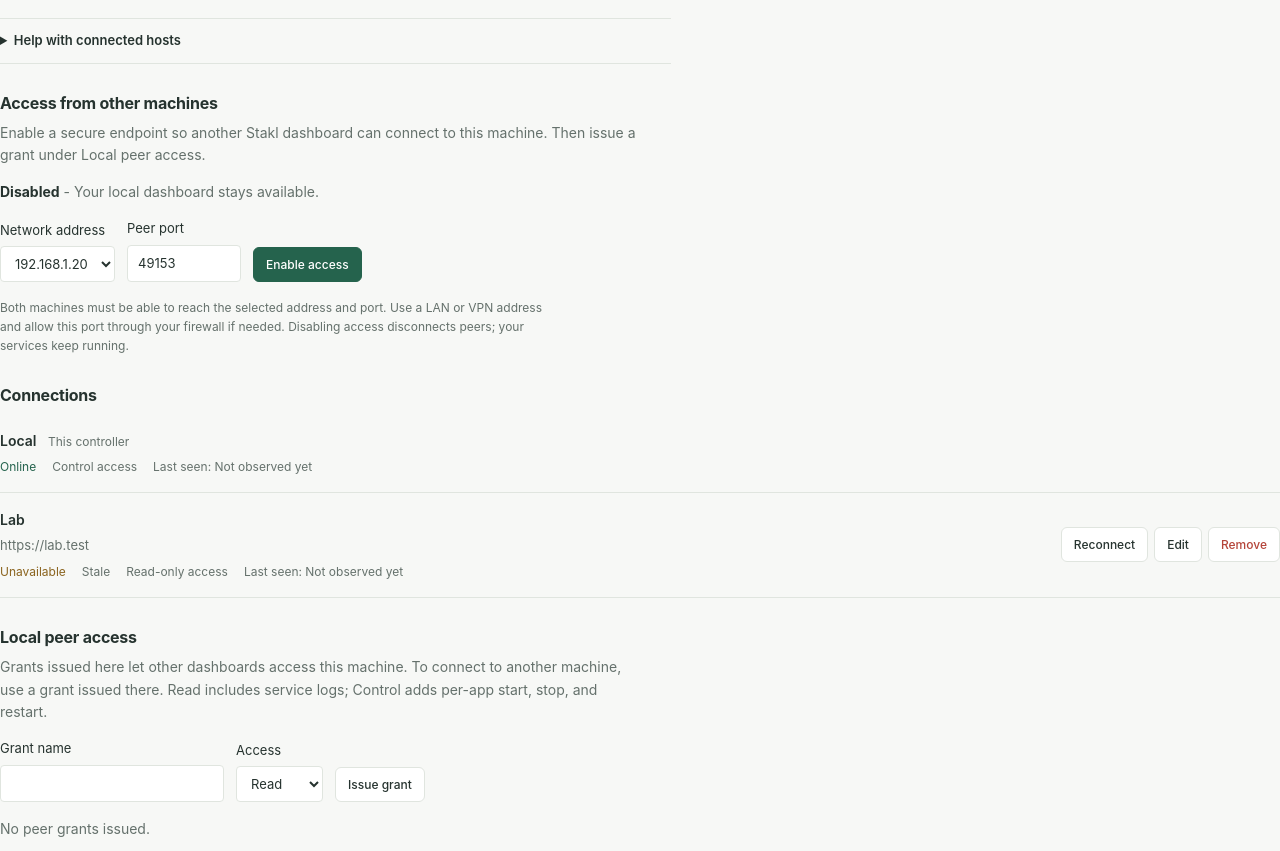
it: grant shown once
This screenshot has width=1280, height=851.
Expected: the button with aria-label "Edit Lab" is shown, [1154,527,1202,562]
In the field labelled "Grant name": (112, 784) [0,765,224,802], type "Workstation"
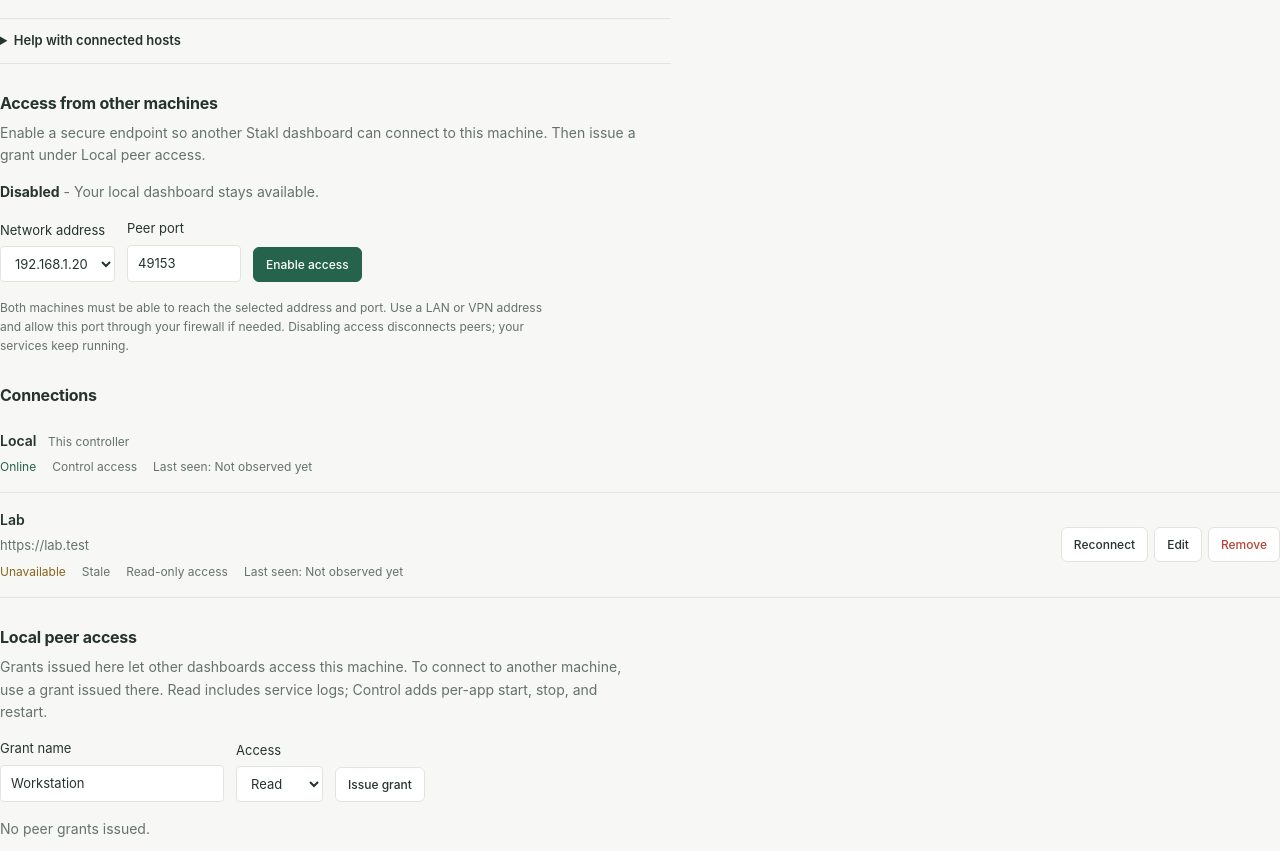
Click the button "Issue grant": click(380, 785) [335,767,425,802]
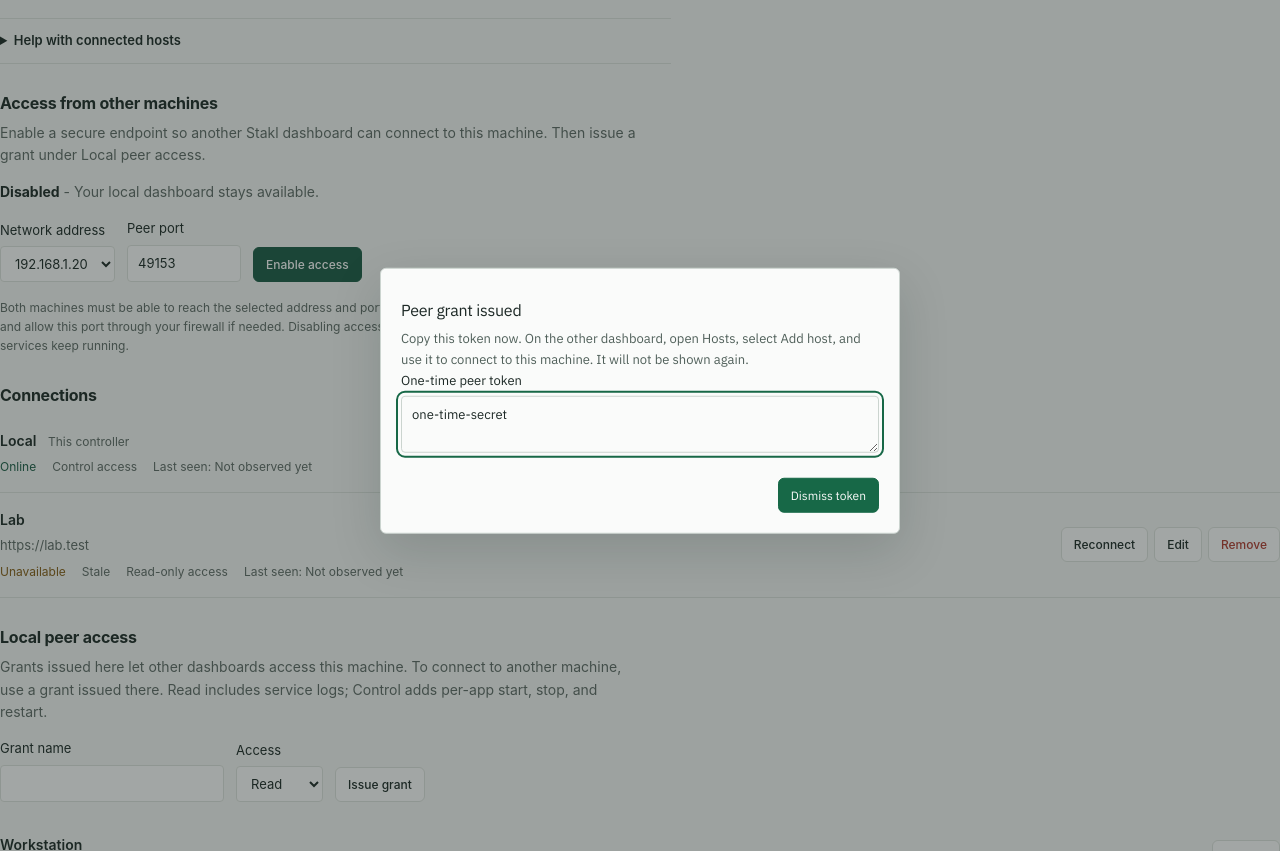
Expected: the text box labelled "One-time peer token" holds "one-time-secret", [401,396,879,453]
Click the button "Dismiss token": click(828, 496) [778,478,879,513]
(page scrolled)
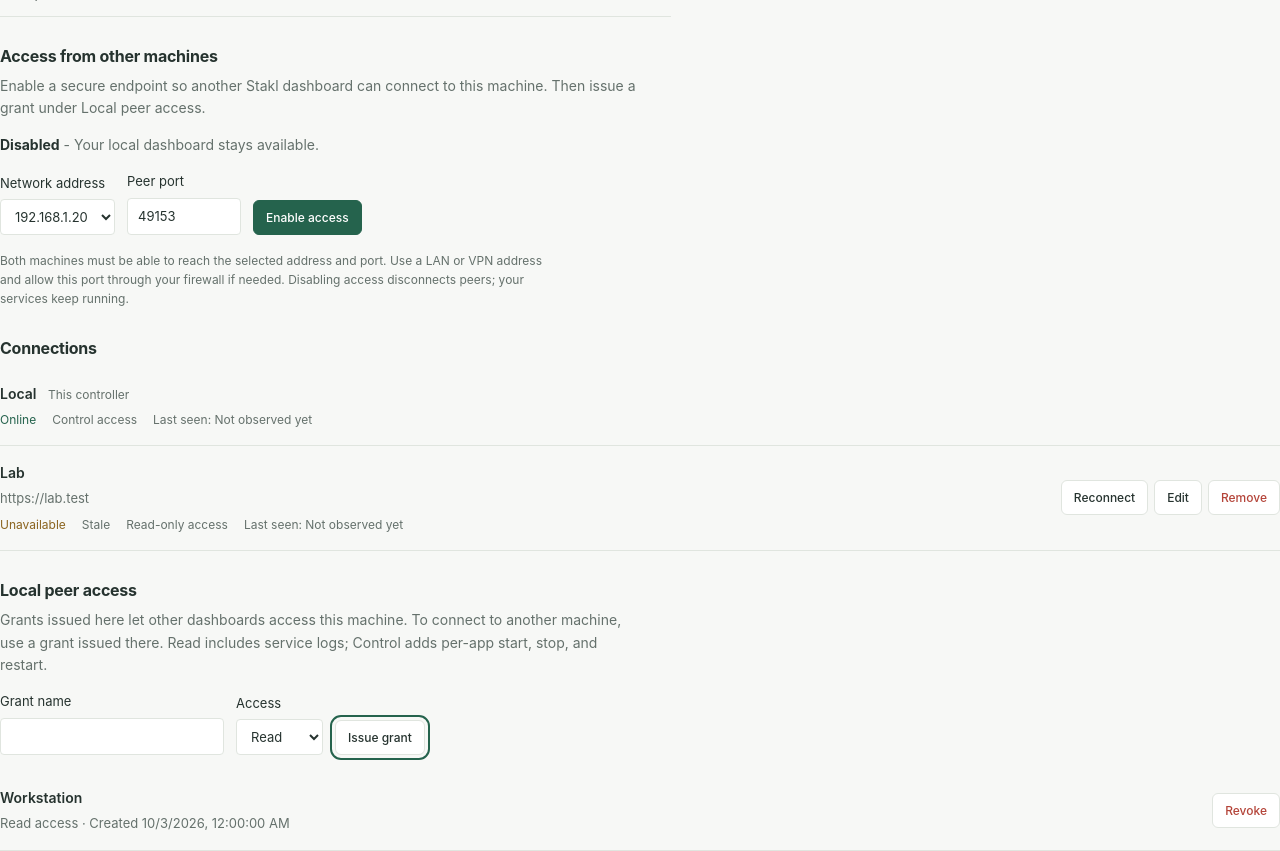
Expected: the text "one-time-secret" is not shown
Expected: the label labelled "One-time peer token" is gone
Click the button with aria-label "Revoke Workstation": click(1246, 811) [1212,793,1279,828]
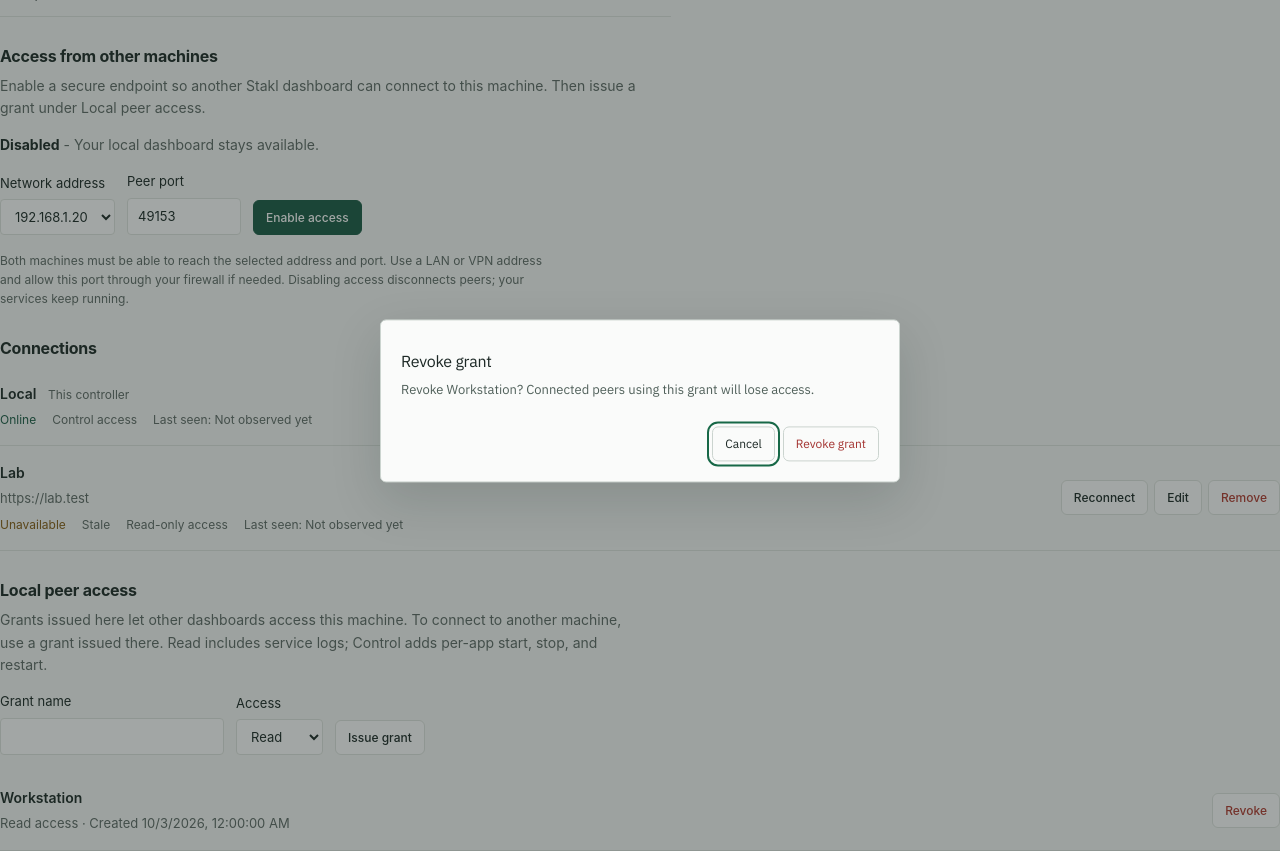
Click the button "Revoke grant": click(831, 444) [783,427,879,462]
(page scrolled)
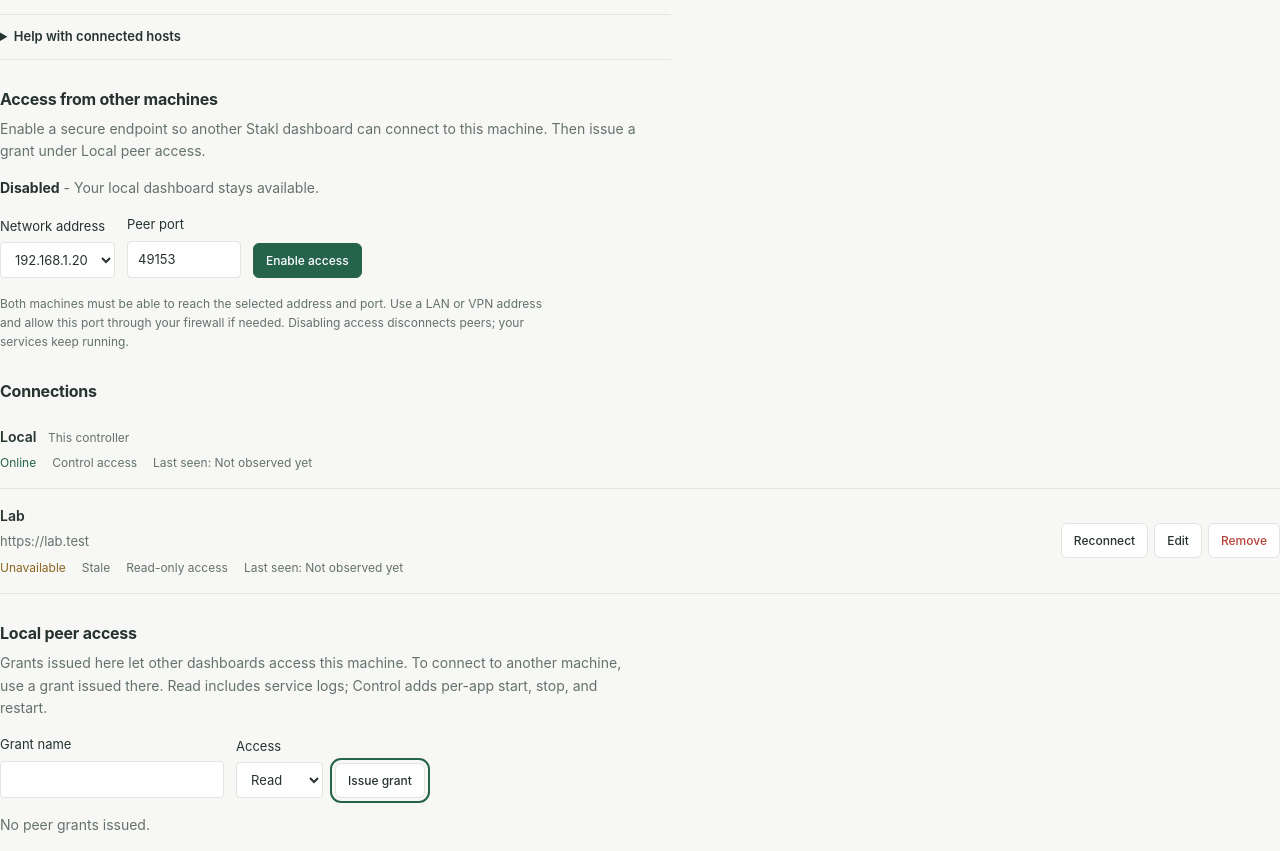
Expected: the text "Revoke Workstation" is gone
